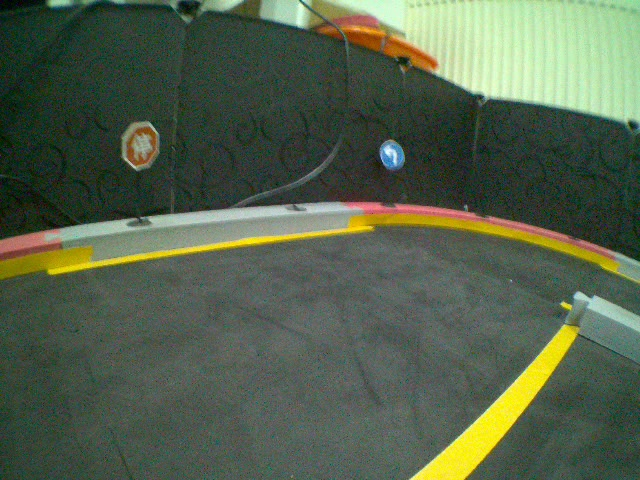Stop: (120, 120, 160, 172)
turn: (375, 139, 407, 172)
